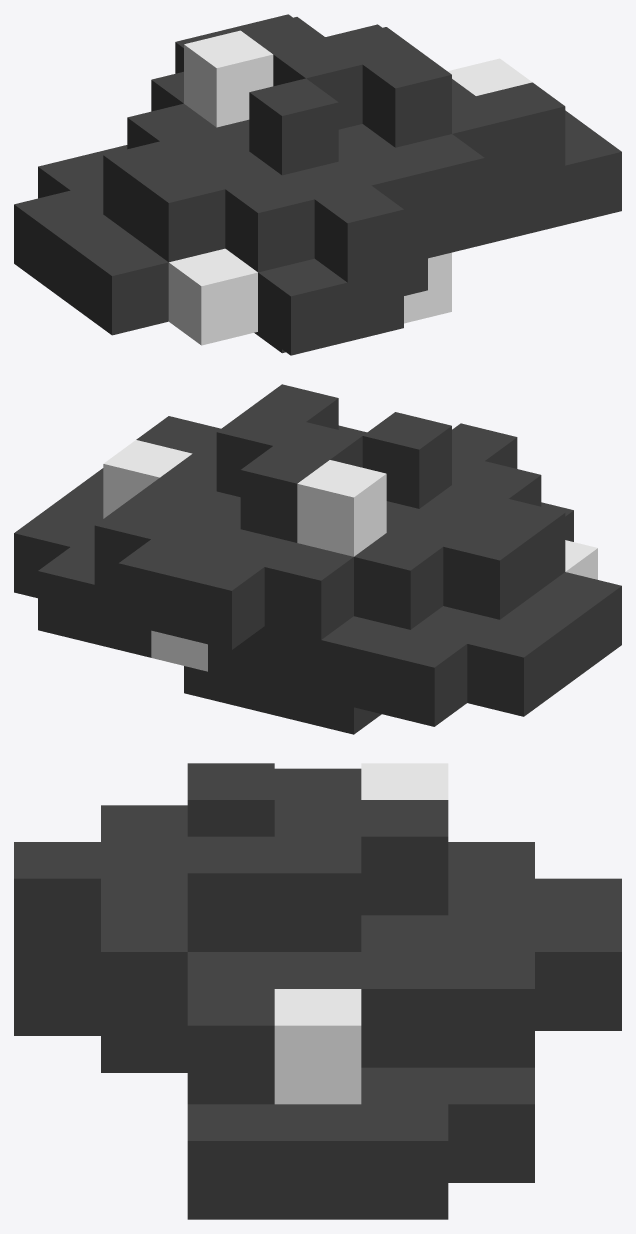
File: lvl3-19.obj
3 renders of one model, top to bottom at view 1: azimuth 30°, elevation 25°; view 2: azimuth 150°, elevation 25°; view 3: azimuth 270°, elevation 25°, orthographic. The views are drawn at different scales.
Bounding box in the file's own units: 0.9 × 0.4 × 0.7.
Materials: 1 (1 with a texture image).
